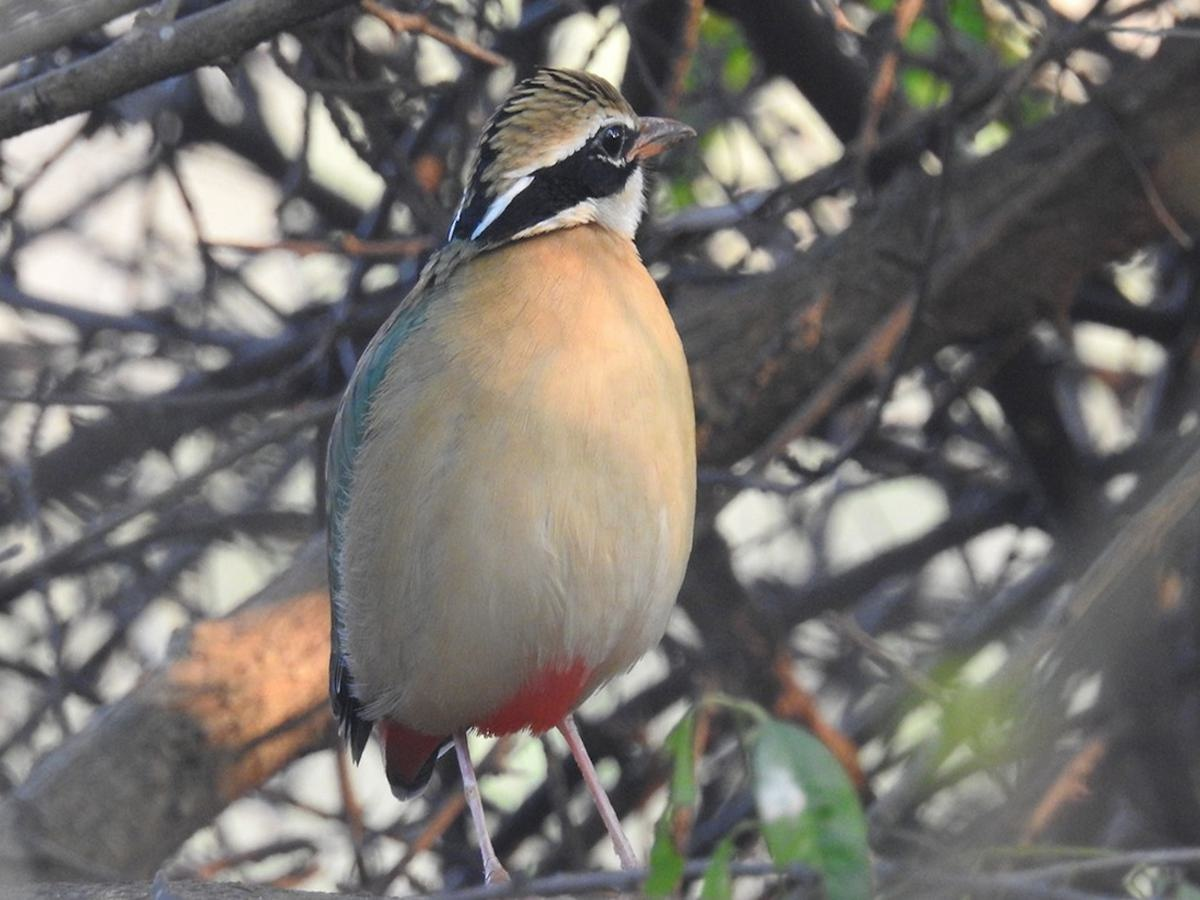pitta: (294, 75, 717, 865)
